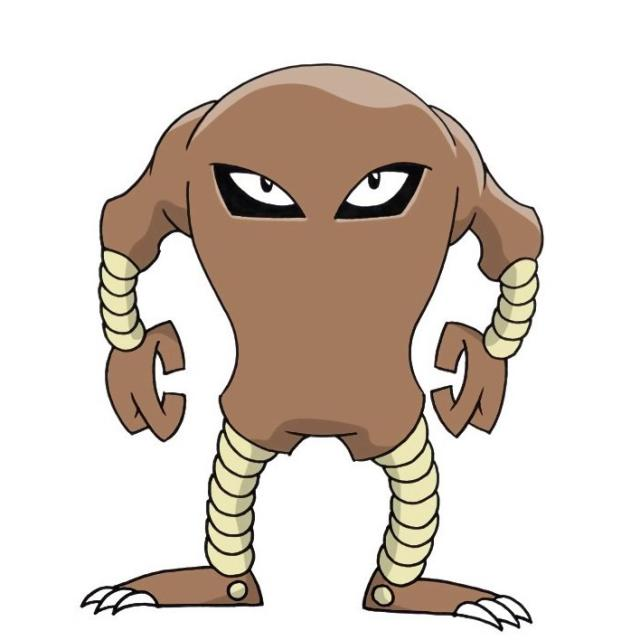Hitmonlee: (111, 64, 527, 616)
